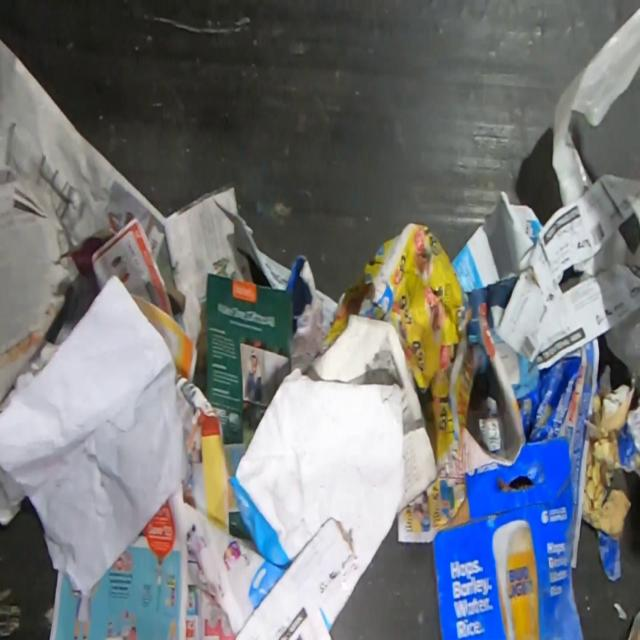cardboard: (431, 434, 586, 640), (205, 272, 292, 448), (582, 364, 640, 582), (228, 511, 252, 539)
